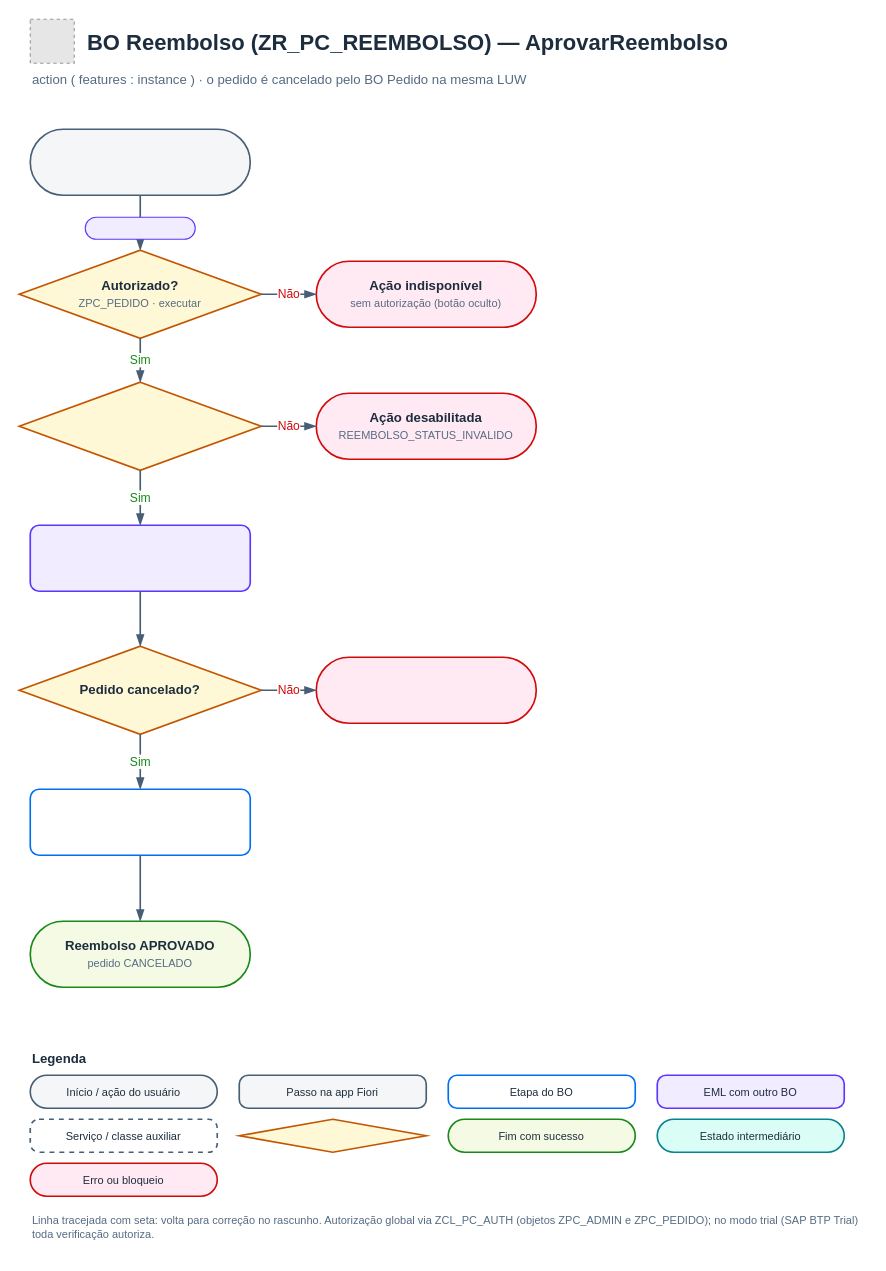
Image size: 886x1271. Some labels were removed from this diagram. Grey dashed boxes stand in for pictures. Each missing label, with the box of its shape:
Aprovar reembolso motivo opcional: (29, 128, 251, 196)
Authorization: (84, 216, 195, 239)
CancelarPorReembolso no BO Pedido libera reserva, snapshots, DEVOLVIDO: (29, 524, 251, 592)
Decisão: (238, 1118, 427, 1153)
Falha do pedido propagada nada é gravado: (315, 656, 537, 724)
Registra a decisão motivo, data e usuário: (29, 788, 251, 856)
Status PENDENTE?: (18, 381, 262, 471)
